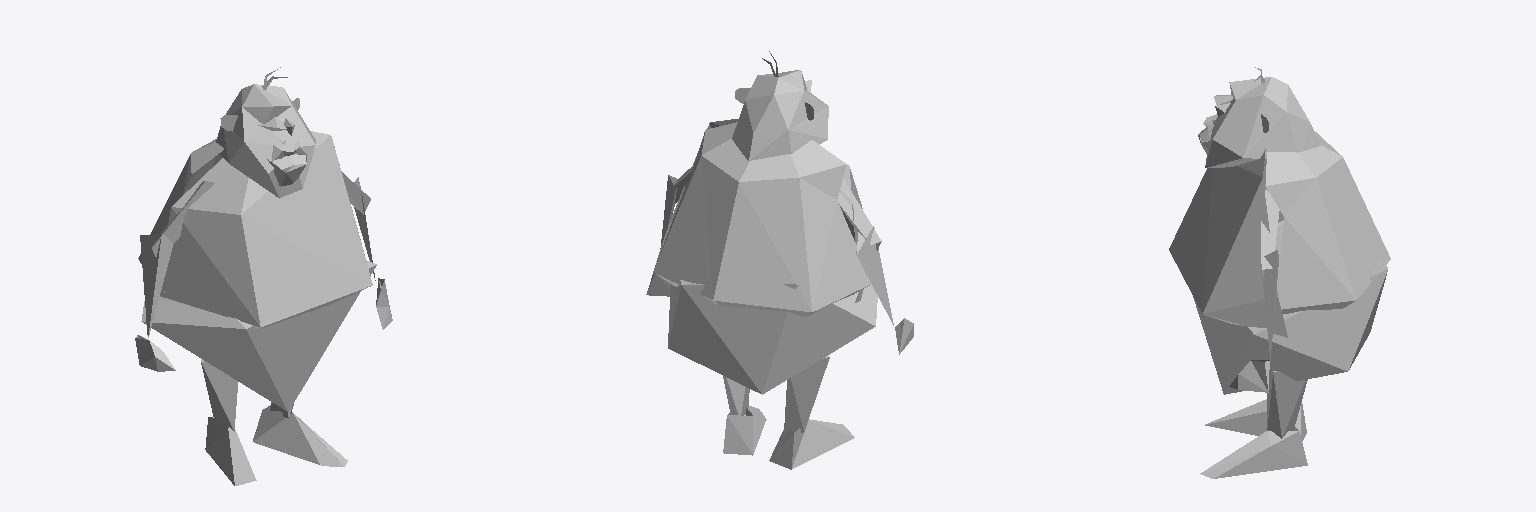
Rendered from bongo.obj.
3 renders of one model, left to right at view 1: azimuth 30°, elevation 25°; view 2: azimuth 150°, elevation 25°; view 3: azimuth 270°, elevation 25°, orthographic.
Visible parts, largest first — view 1: bongo_shirt, bongo_pants, bongo_face, bongo_shoes, bongo_arm_r, bongo_legs, bongo_back, bongo_hands, bongo_arm_l, bongo_lips; view 2: bongo_back, bongo_pants, bongo_face, bongo_shoes, bongo_legs, bongo_arm_r, bongo_hands, bongo_shirt, bongo_arm_l; view 3: bongo_back, bongo_shirt, bongo_pants, bongo_face, bongo_shoes, bongo_legs, bongo_arm_l, bongo_hands.
Boxes of the visible parts, <box> form: bongo_shirt: <box>160,131,372,329</box>; bongo_pants: <box>141,260,376,411</box>; bongo_face: <box>216,84,315,198</box>; bongo_shoes: <box>205,405,347,485</box>; bongo_arm_r: <box>140,181,214,337</box>; bongo_legs: <box>201,359,293,431</box>; bongo_back: <box>138,139,223,291</box>; bongo_hands: <box>135,278,392,371</box>; bongo_arm_l: <box>342,172,375,280</box>; bongo_lips: <box>271,143,306,169</box>; bongo_back: <box>653,122,870,316</box>; bongo_pants: <box>668,280,877,394</box>; bongo_face: <box>732,70,828,160</box>; bongo_shoes: <box>723,406,854,469</box>; bongo_legs: <box>723,356,829,432</box>; bongo_arm_r: <box>837,178,893,325</box>; bongo_hands: <box>646,273,913,354</box>; bongo_shirt: <box>656,119,863,302</box>; bongo_arm_l: <box>660,167,692,248</box>; bongo_back: <box>1265,131,1390,313</box>; bongo_shirt: <box>1169,149,1287,337</box>; bongo_pants: <box>1193,225,1387,394</box>; bongo_face: <box>1198,77,1320,167</box>; bongo_shoes: <box>1200,399,1307,478</box>; bongo_legs: <box>1267,371,1307,438</box>; bongo_arm_l: <box>1261,188,1279,361</box>; bongo_hands: <box>1229,360,1269,392</box>.
Size of the model in its own units: 5.68 by 8.3 by 4.29.